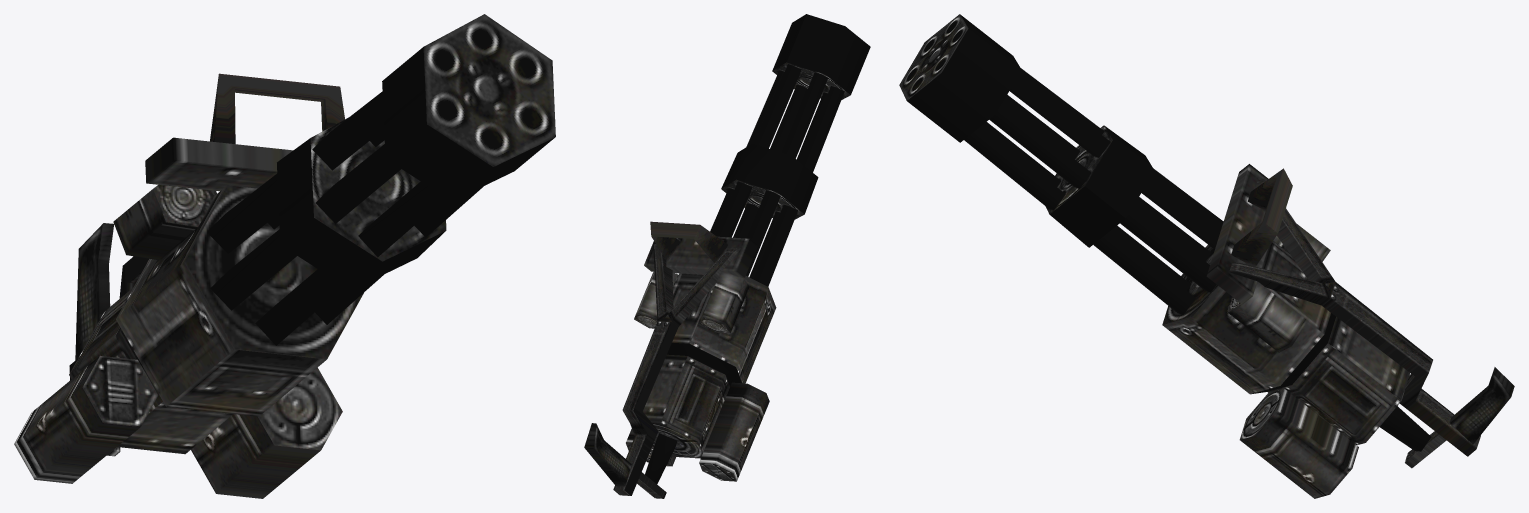
Rendered from p_mini.glb.
3 views of the same model, side by side, from view 1: azimuth 30°, elevation 25°; view 2: azimuth 150°, elevation 25°; view 3: azimuth 270°, elevation 25° (orthographic). The views are drawn at different scales.
Parts seen in each view (by area): view 1: p_mini; view 2: p_mini; view 3: p_mini.
Boxes of the visible parts, x1,y1,x2,y2 form: p_mini: [14, 14, 555, 498]; p_mini: [584, 14, 870, 498]; p_mini: [899, 14, 1514, 498].
Bounding box in the file's own units: 12.96 × 31.72 × 38.55.
2 materials, 2 textured.
